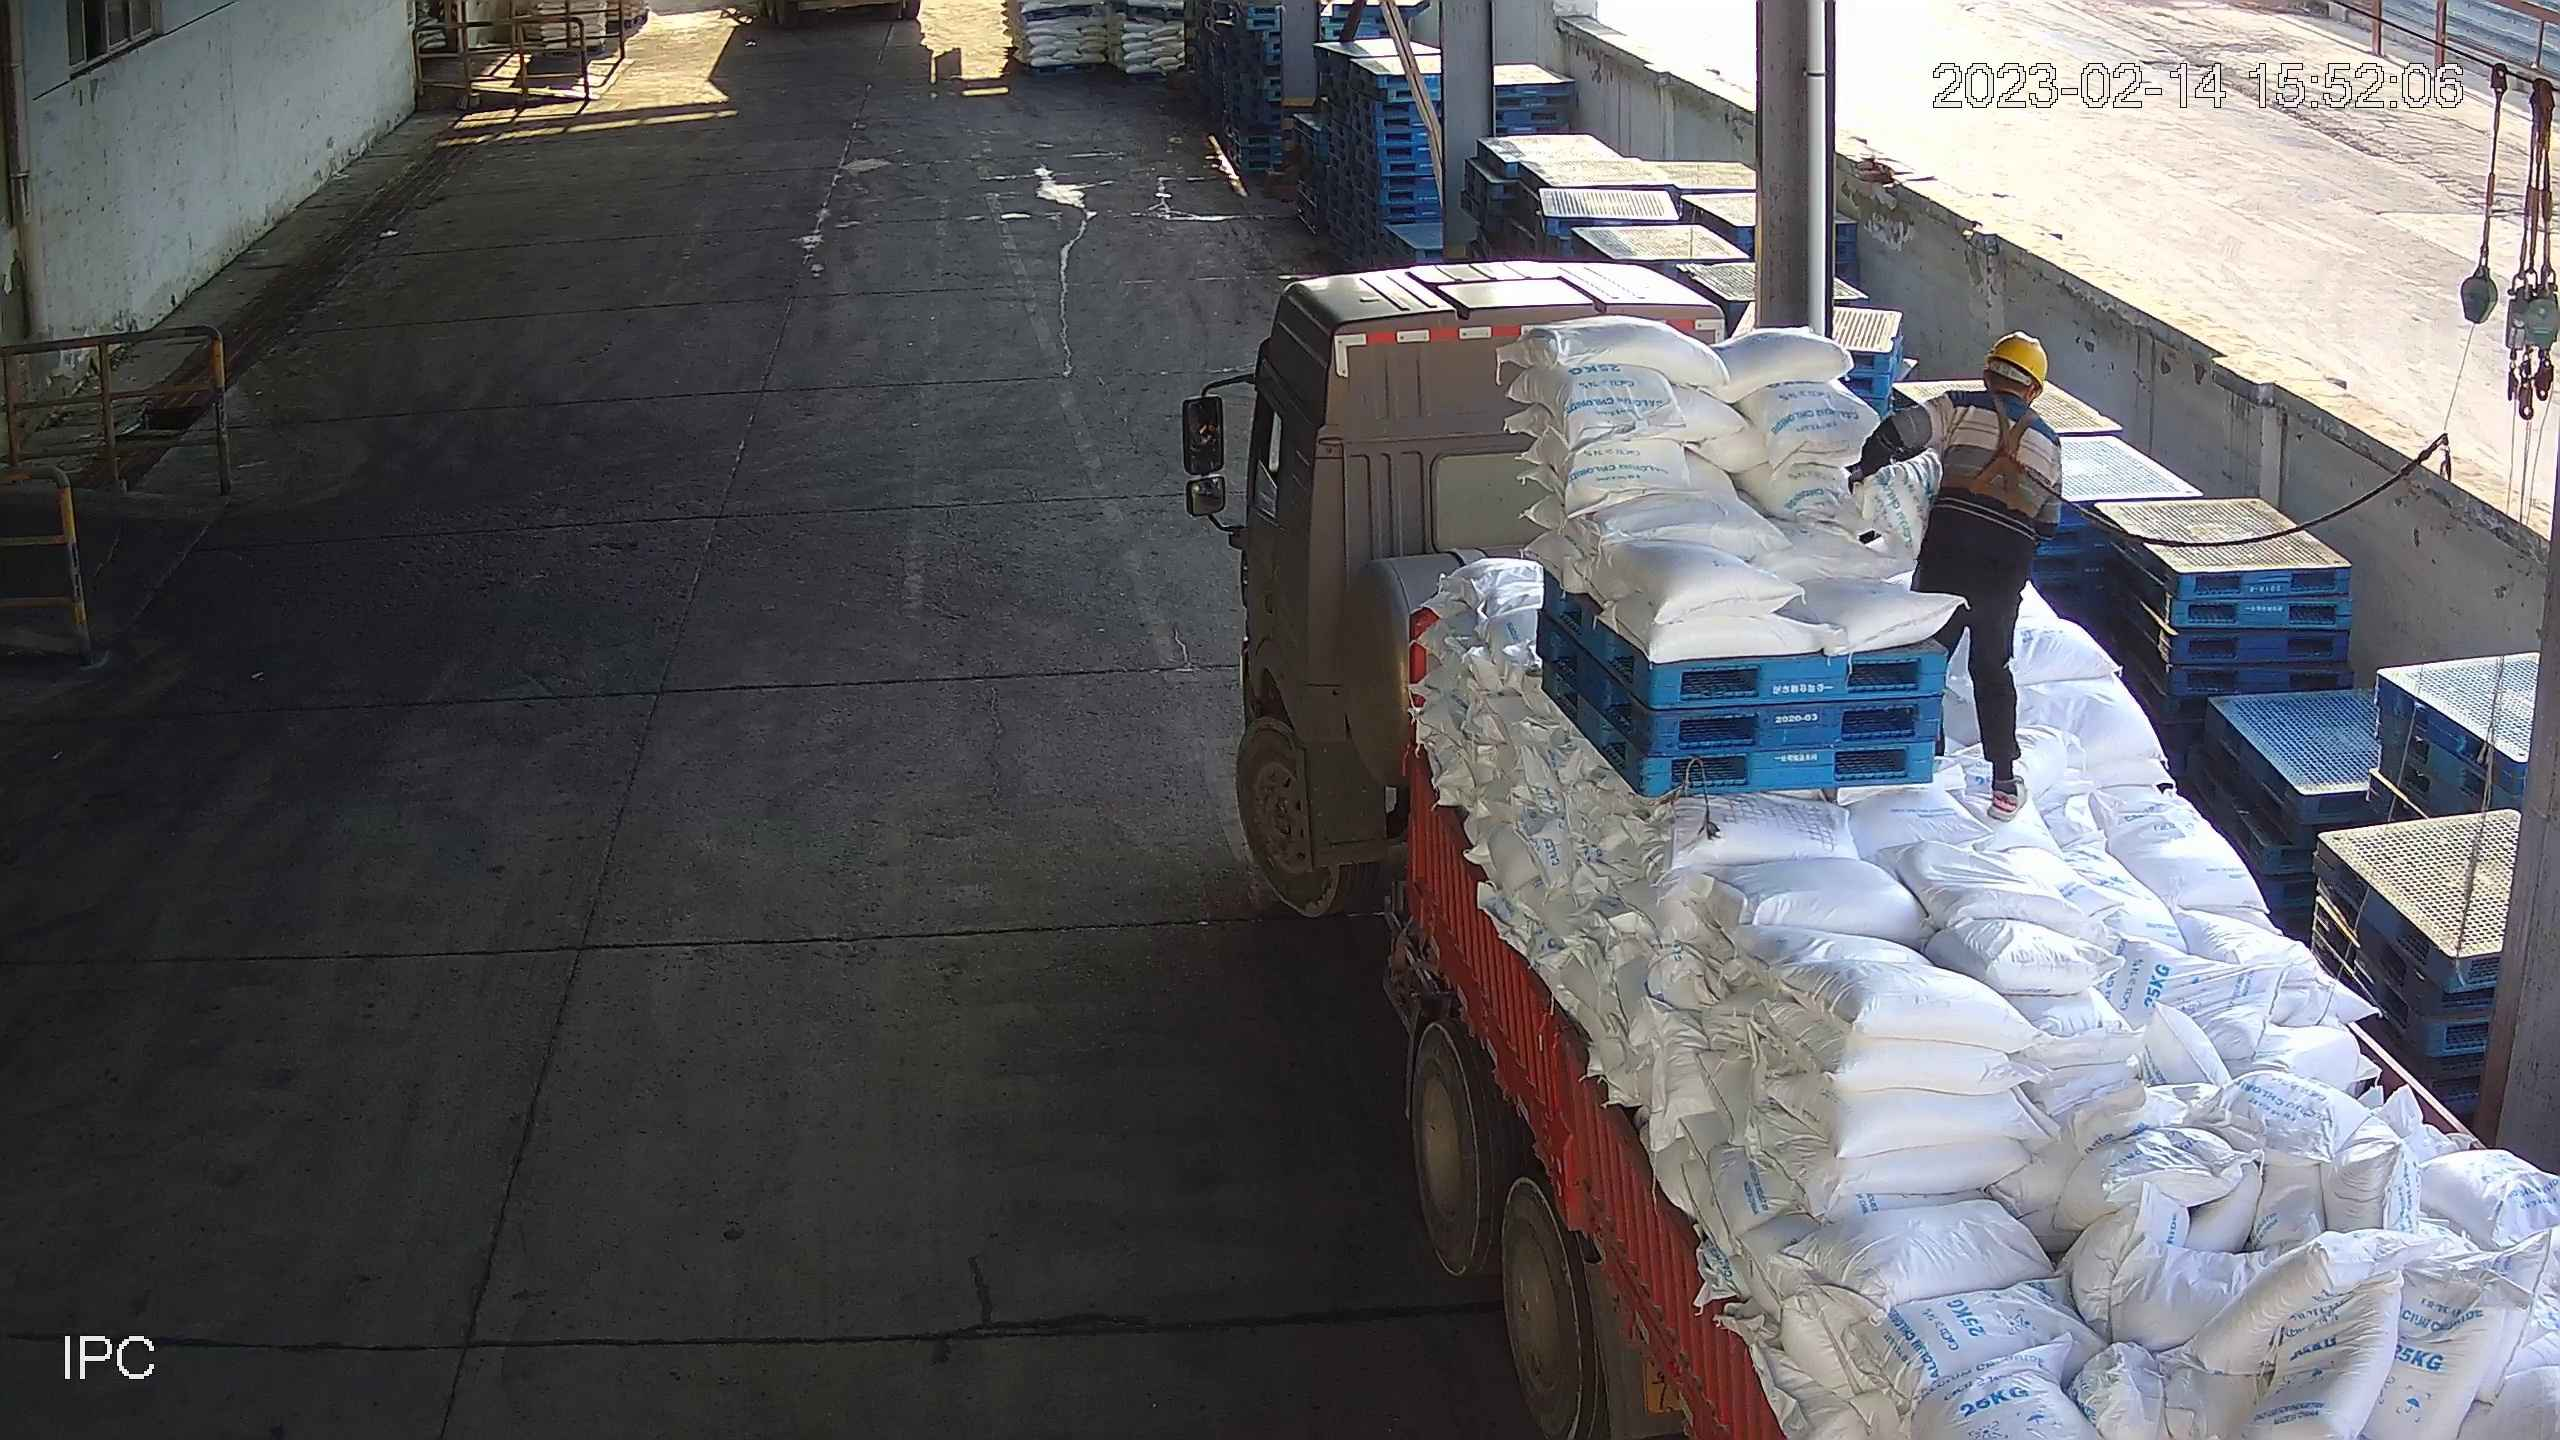belt: (1940, 389, 2064, 518)
head: (1934, 328, 2064, 464)
helmet: (1986, 331, 2048, 398)
people: (1849, 324, 2064, 823)
truck: (1233, 260, 2560, 1440)
